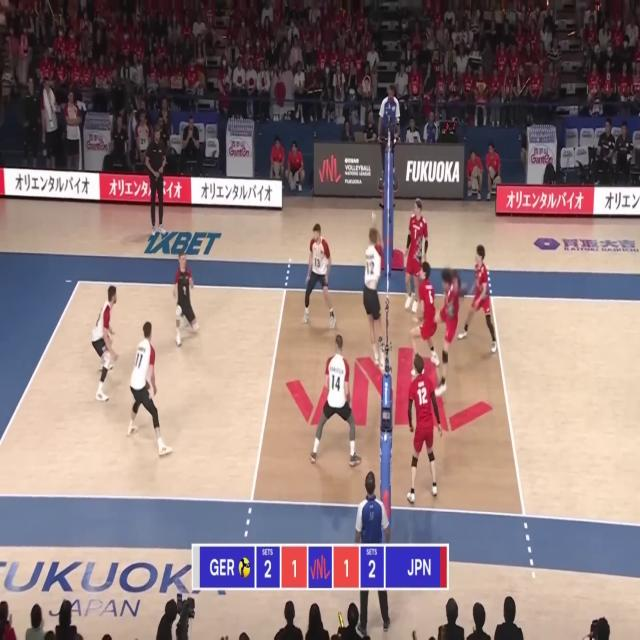referee: (353, 471, 391, 635)
team_one: (309, 334, 362, 468), (126, 320, 172, 458), (362, 227, 387, 371), (304, 222, 336, 330), (92, 286, 118, 402), (173, 252, 199, 346)
team_two: (406, 353, 442, 504), (458, 243, 498, 354), (410, 262, 440, 378), (434, 268, 460, 398), (404, 198, 428, 314)
